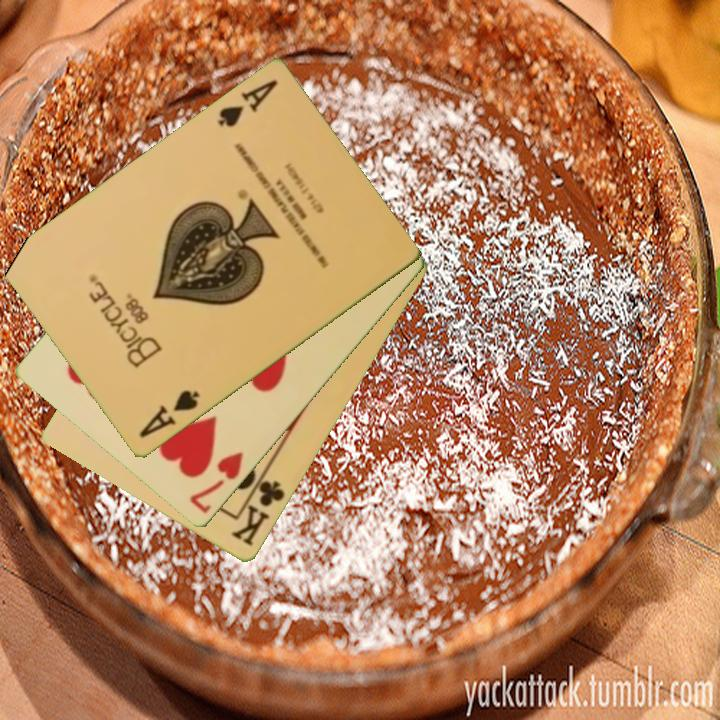7h: (186, 448, 247, 517)
As: (135, 386, 203, 442), (213, 76, 281, 131)
Kc: (227, 468, 288, 550)
